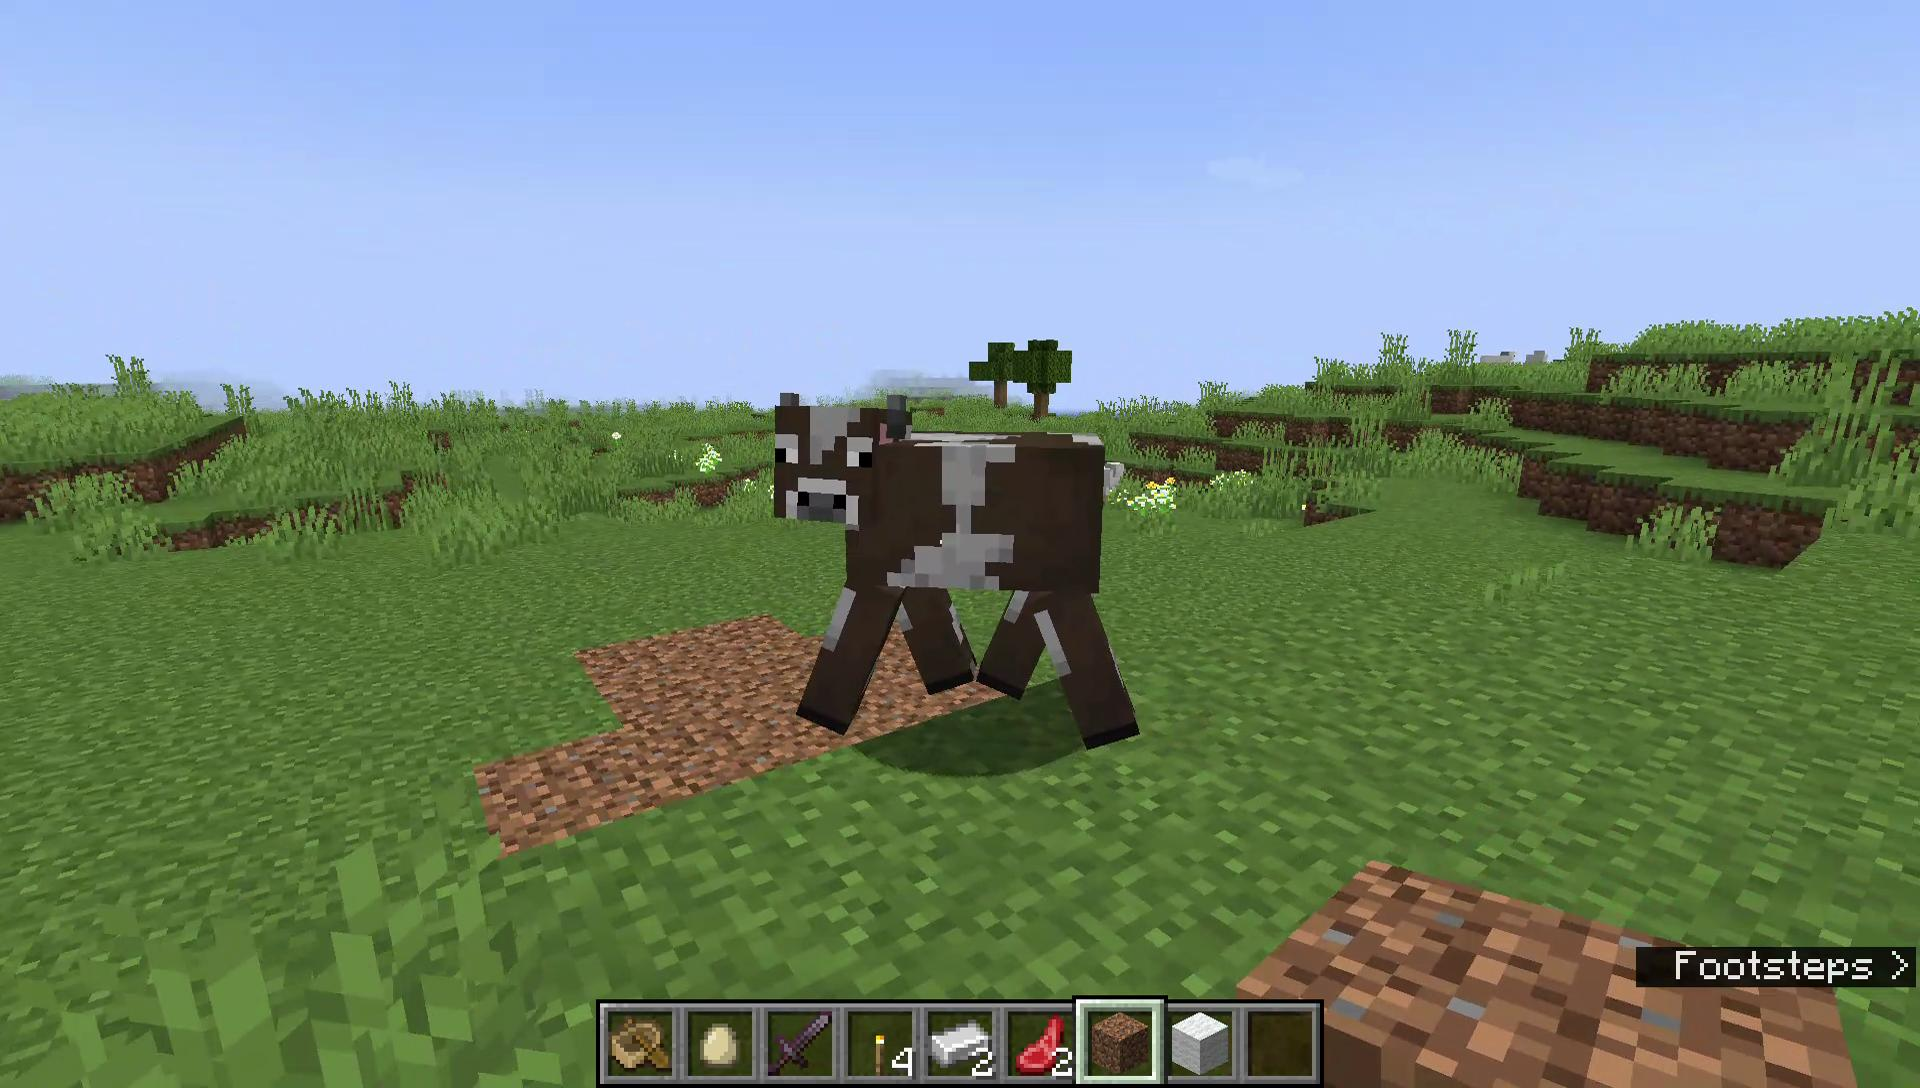cow: (767, 384, 1145, 753)
sheep: (1105, 459, 1124, 499), (1480, 348, 1516, 368), (1524, 347, 1548, 368)
